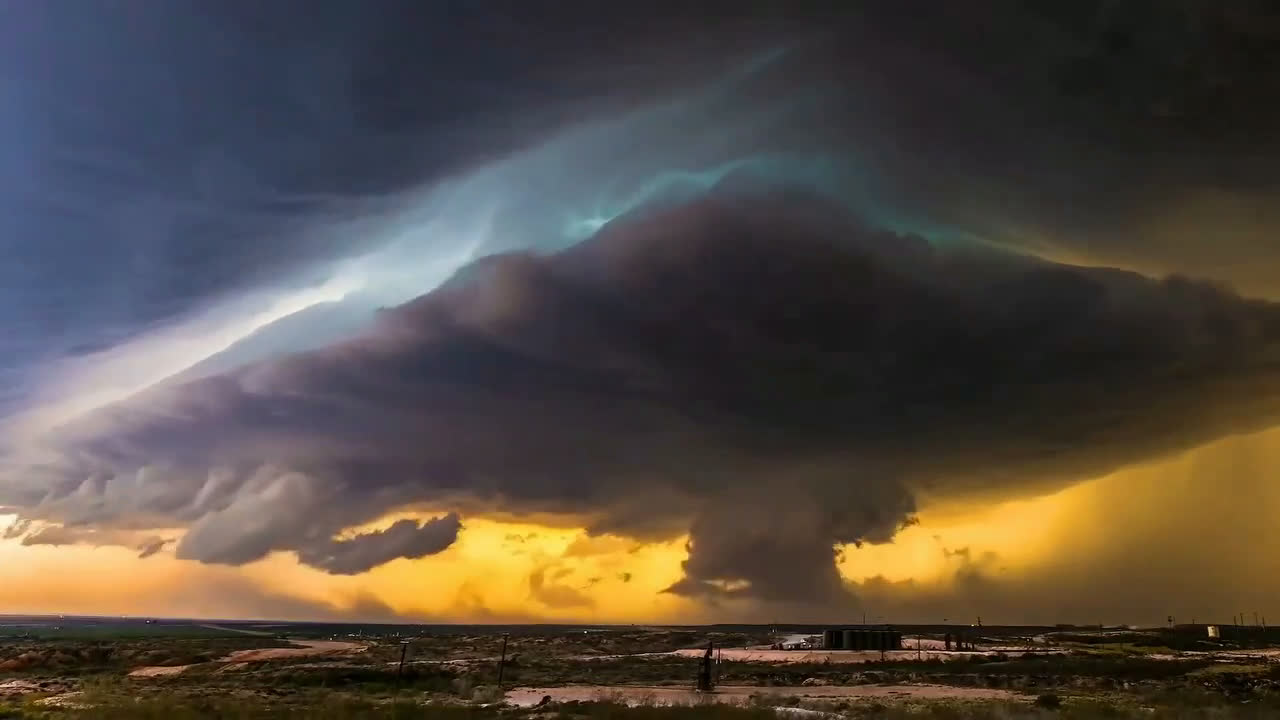RFD: (516, 428, 1278, 624)
mesocyclone: (6, 9, 1279, 567)
striations: (191, 293, 702, 415)
wall cloud: (47, 160, 1276, 568)
